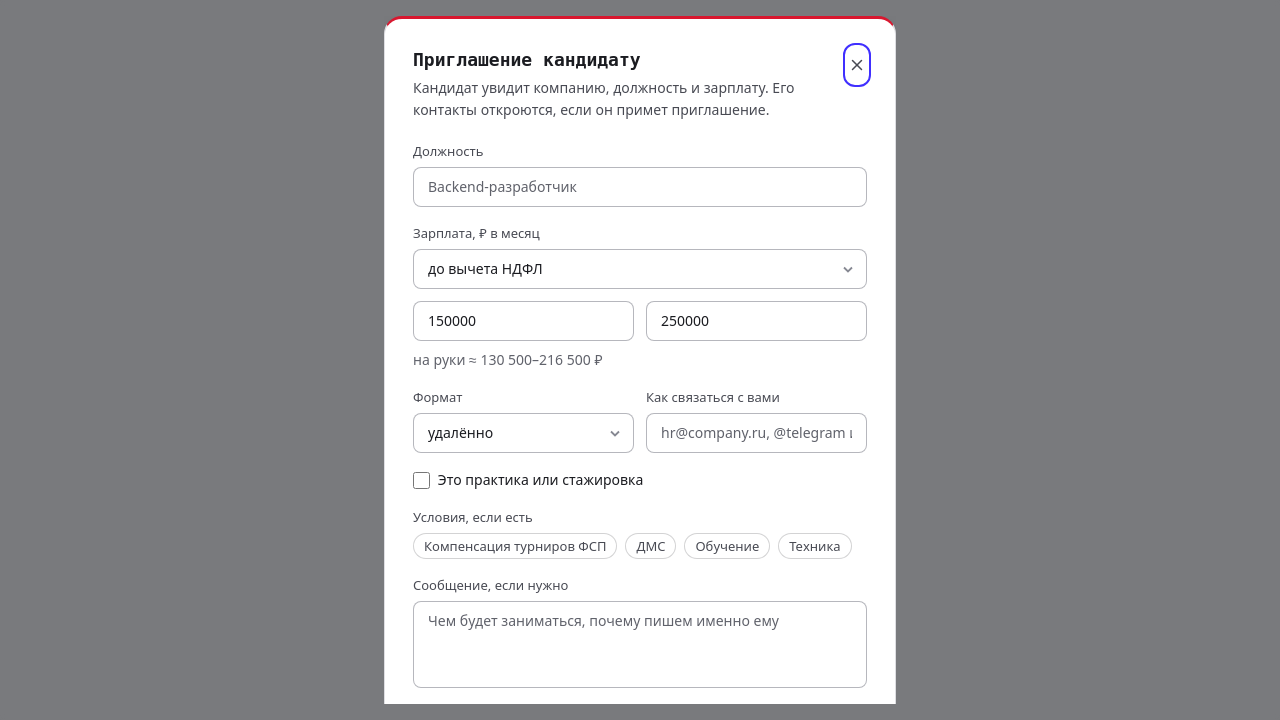
Test: приглашение › без вилки не отправляется и подписывает зарплату до вычета НДФЛ
Clear the number field named "От" at (524, 321), box top-left (413, 301), bottom-right (634, 341)
(page scrolled)
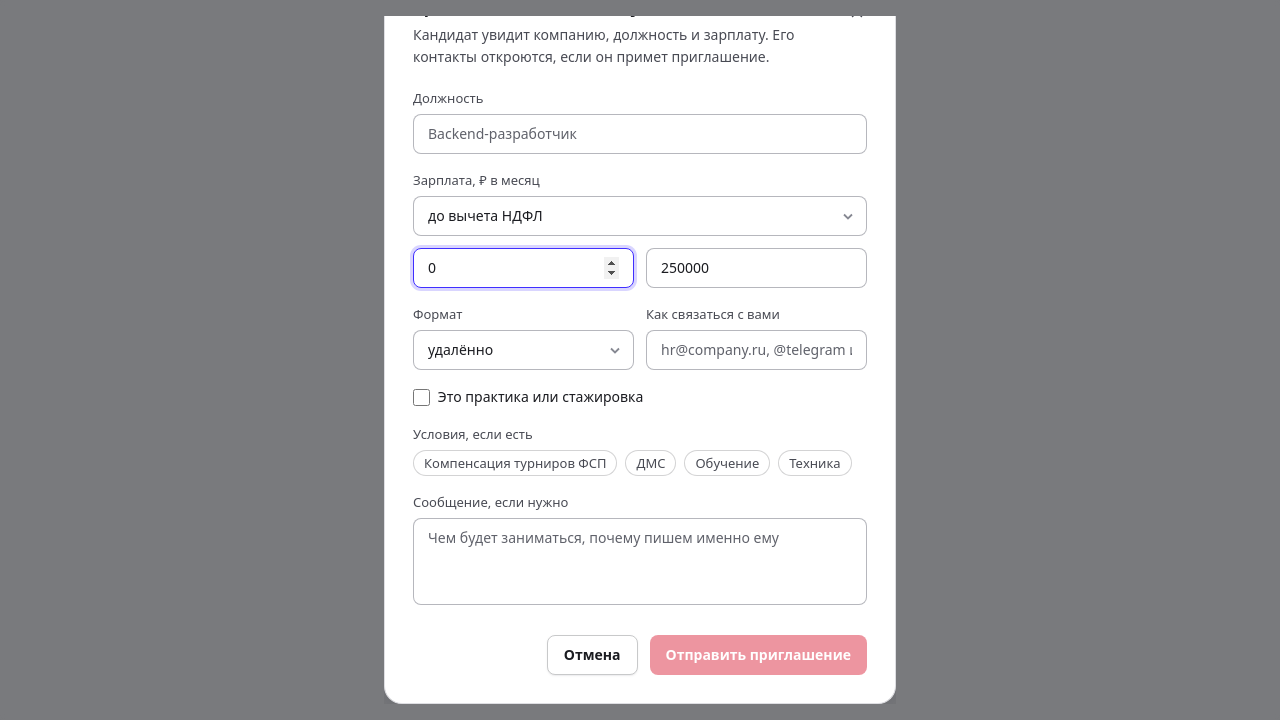
Result: the button "Отправить приглашение" is disabled at top-left (650, 635), bottom-right (867, 675)
